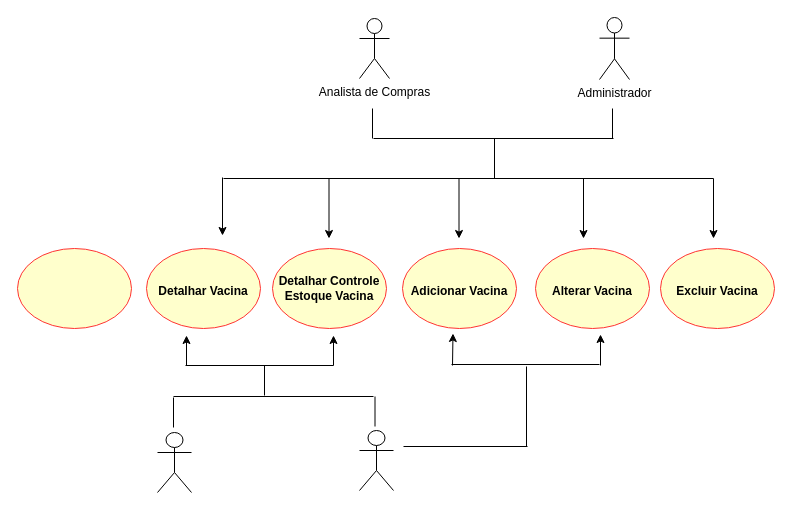
The diagram is 792 pixels wide and 531 high, and some of its shapes have lost their labels. The centre of each missing label's shape, as x and y in pixels:
Listar Vacinas: [74,288]
Secretária: [174,462]
Técnico de Enfermagem: [376,460]
